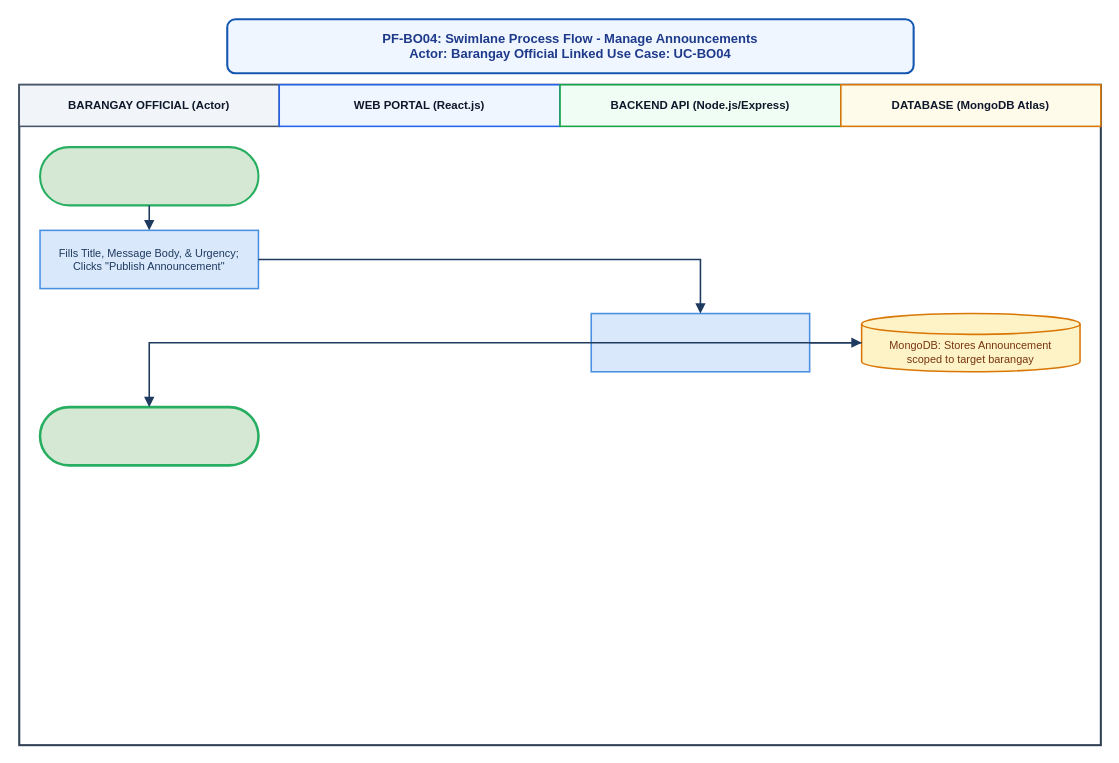
This 1119x763 diagram has some shape labels left out. Here are the shapes that lost their labels. From the top down, the centre of each, then its label:
point 148,176: START: Opens Announcements
point 700,342: POST /api/announcements Socket.IO "new_announcement" broadcast
point 148,435: END: Announcement live on mobile
